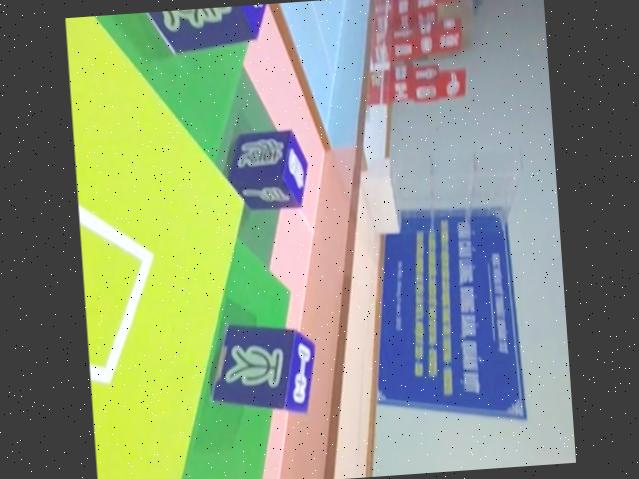R2 Fake Blue: (201, 318, 321, 422), (112, 3, 278, 53), (221, 124, 310, 213)
